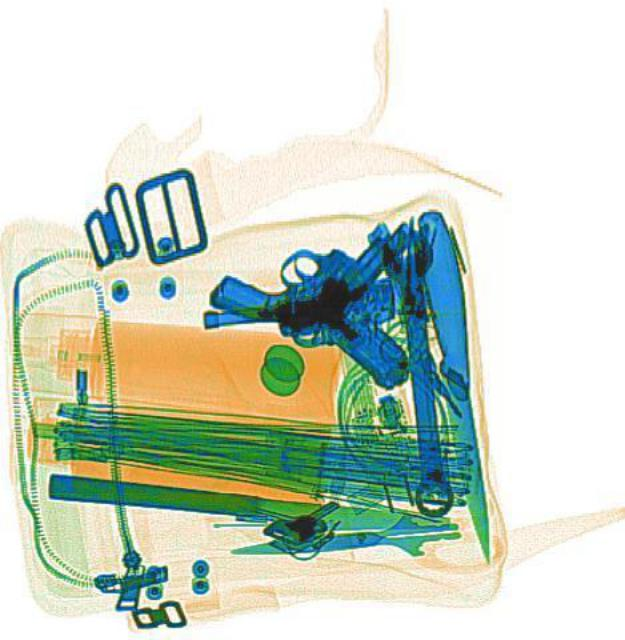Gun: (200, 162, 419, 370), (198, 274, 407, 410)
Knife: (410, 208, 510, 564), (46, 471, 447, 537), (225, 500, 458, 570)
Wrench: (376, 228, 463, 516)
